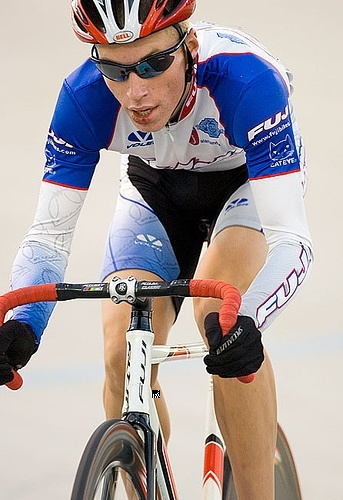car: (2, 281, 303, 500)
person: (1, 2, 315, 500)
person/hand: (201, 313, 263, 378), (1, 318, 40, 383)
person/head: (73, 2, 200, 132)
